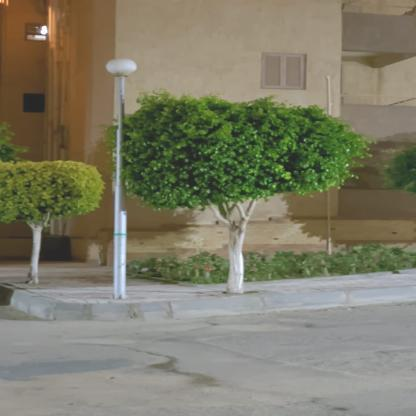light_pole: (105, 58, 138, 300)
